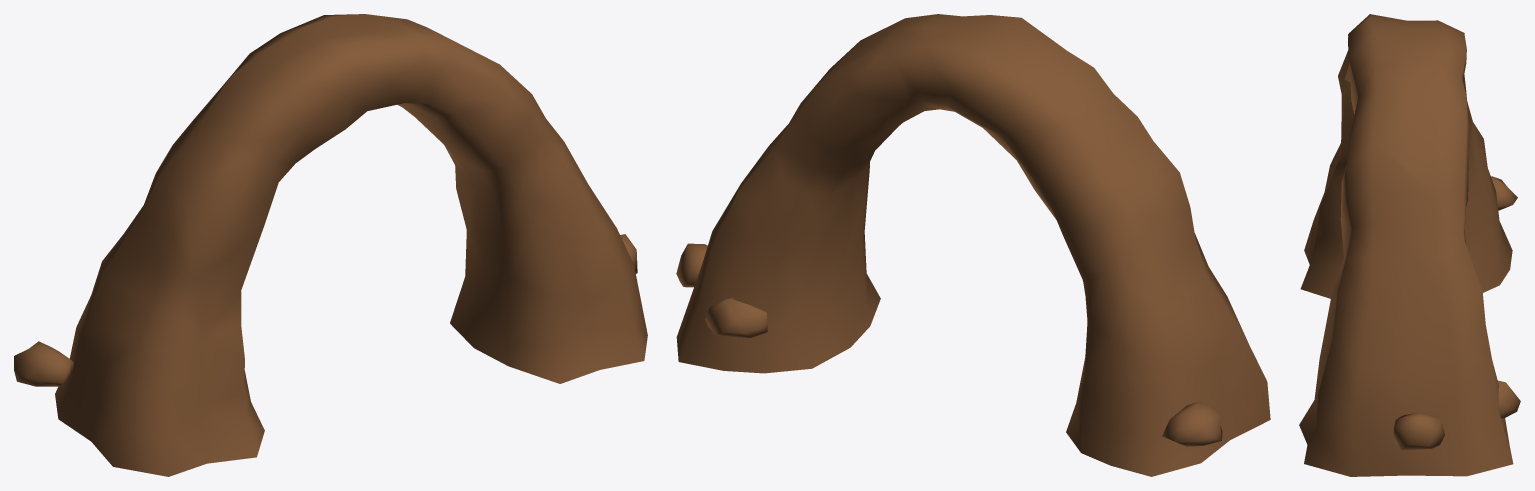
Rendered from rock-arch-large-lod1.glb.
The picture shows the model from 3 angles, left to right: view 1: azimuth 30°, elevation 25°; view 2: azimuth 150°, elevation 25°; view 3: azimuth 270°, elevation 25°; orthographic projection. The views are drawn at different scales.
Visible parts, largest first — view 1: rock-arch-large.001; view 2: rock-arch-large.001; view 3: rock-arch-large.001.
Part boxes in pixels (x1,y1,x2,y2): rock-arch-large.001: (14,14,647,476); rock-arch-large.001: (676,14,1270,476); rock-arch-large.001: (1299,14,1520,476).
Bounding box in the file's own units: 38.6 × 22.57 × 13.89.
